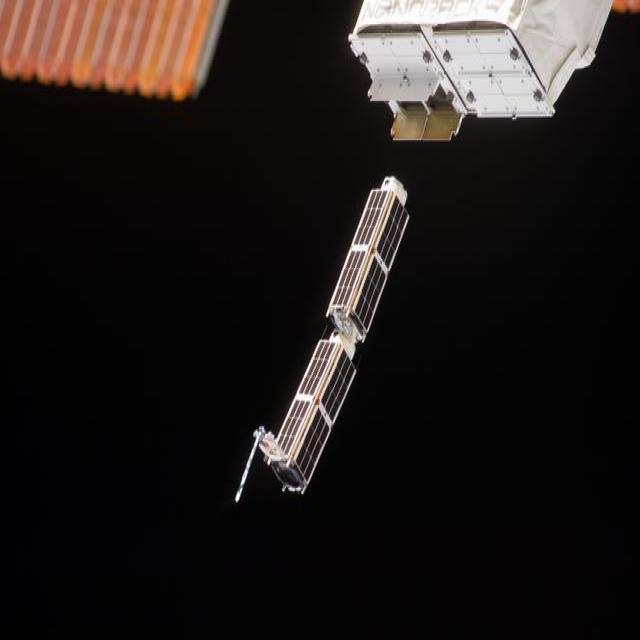medium_debris: (235, 177, 409, 502)
